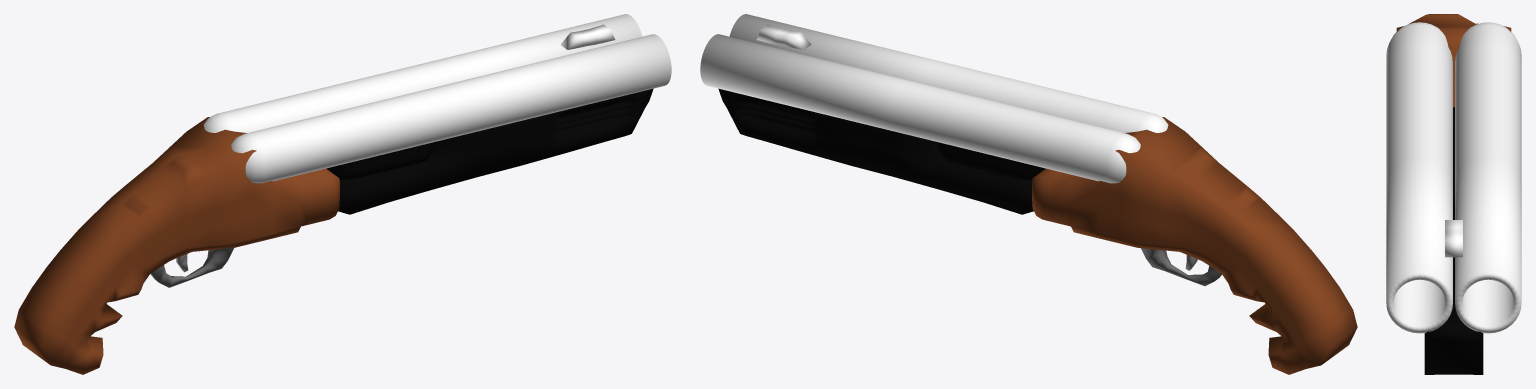
Rendered from escopeta3.fbx.
3 views of the same model, side by side, from view 1: azimuth 30°, elevation 25°; view 2: azimuth 150°, elevation 25°; view 3: azimuth 270°, elevation 25° (orthographic). The views are drawn at different scales.
Parts seen in each view (by area): view 1: Cube.004; view 2: Cube.004; view 3: Cube.004.
Boxes of the visible parts, left/top/right/bottom form: Cube.004: left=14, top=14, right=671, bottom=374; Cube.004: left=700, top=14, right=1357, bottom=374; Cube.004: left=1386, top=14, right=1521, bottom=374.
Size of the model in its own units: 1559 by 497 by 236.
